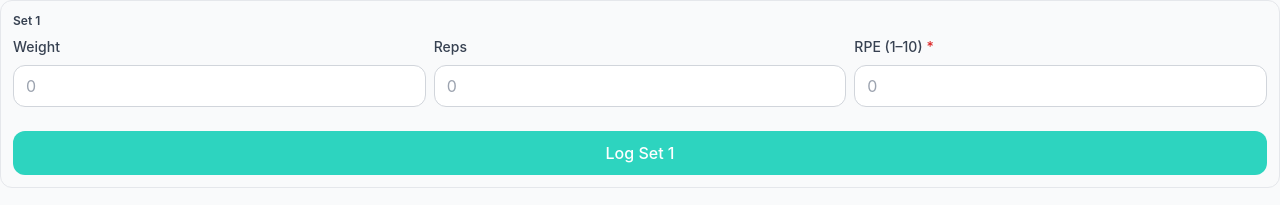
Test case: SetRow › clamps RPE to 1-10 range
Type "15" into the number field labelled "RPE (1–10)*" at {"x": 1061, "y": 86}, box top-left (854, 65), bottom-right (1267, 107)
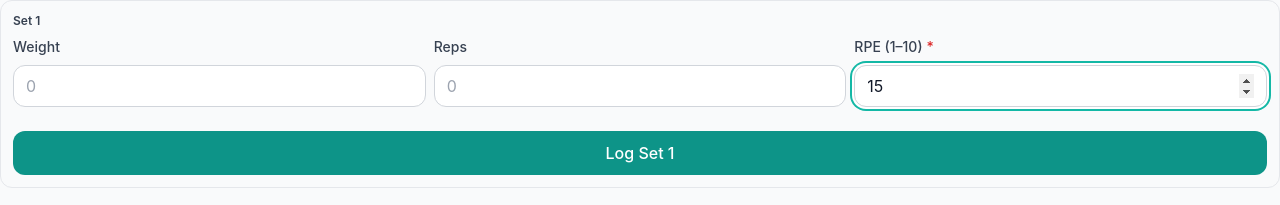
Press Tab
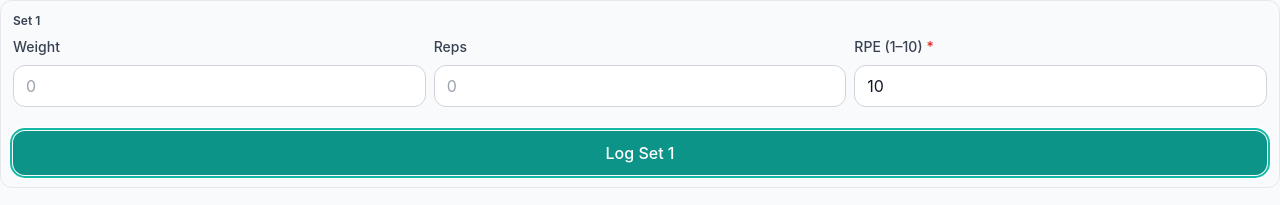
Now the number field labelled "RPE (1–10)*" holds "10", box top-left (854, 65), bottom-right (1267, 107)
